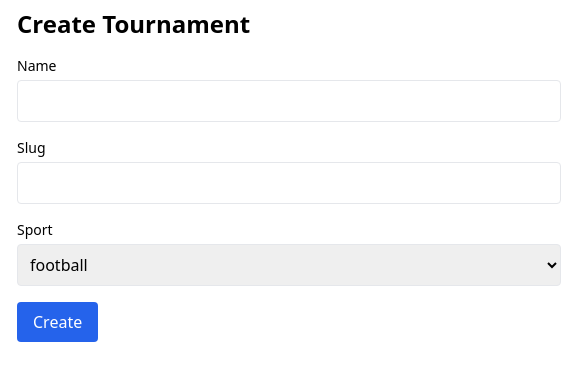
Scenario: CreateTournamentPage › shows validation error on empty submit
The width and height of the screenshot is (578, 380).
Step 1. Click the button "Create" → (58, 322), box [17,302,98,342]
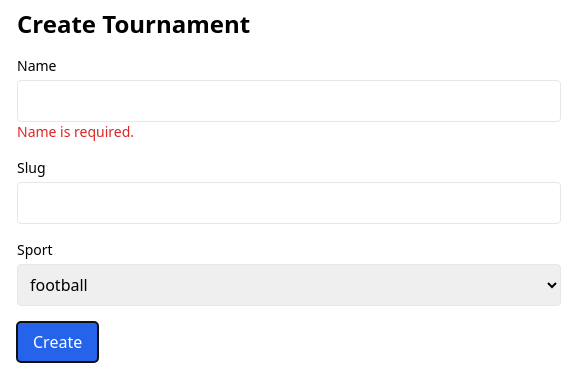
Expected: the text "Name is required." is shown, [17,122,134,141]
